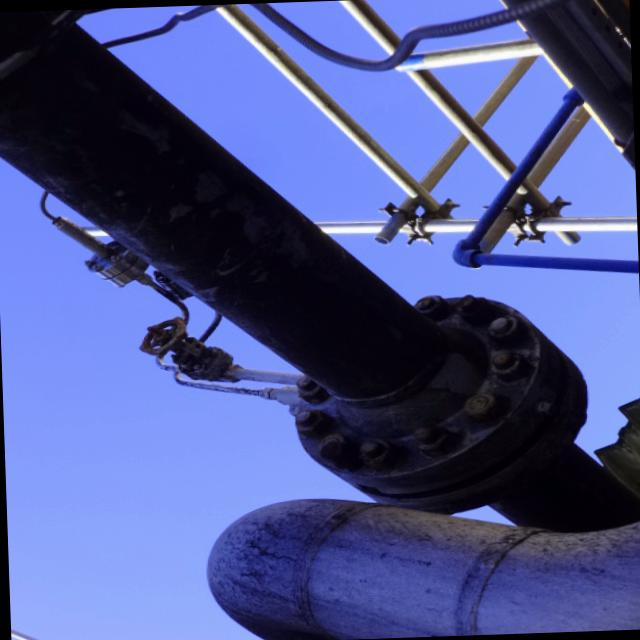gas: (0, 9, 599, 526), (209, 494, 640, 640), (454, 85, 638, 275)
